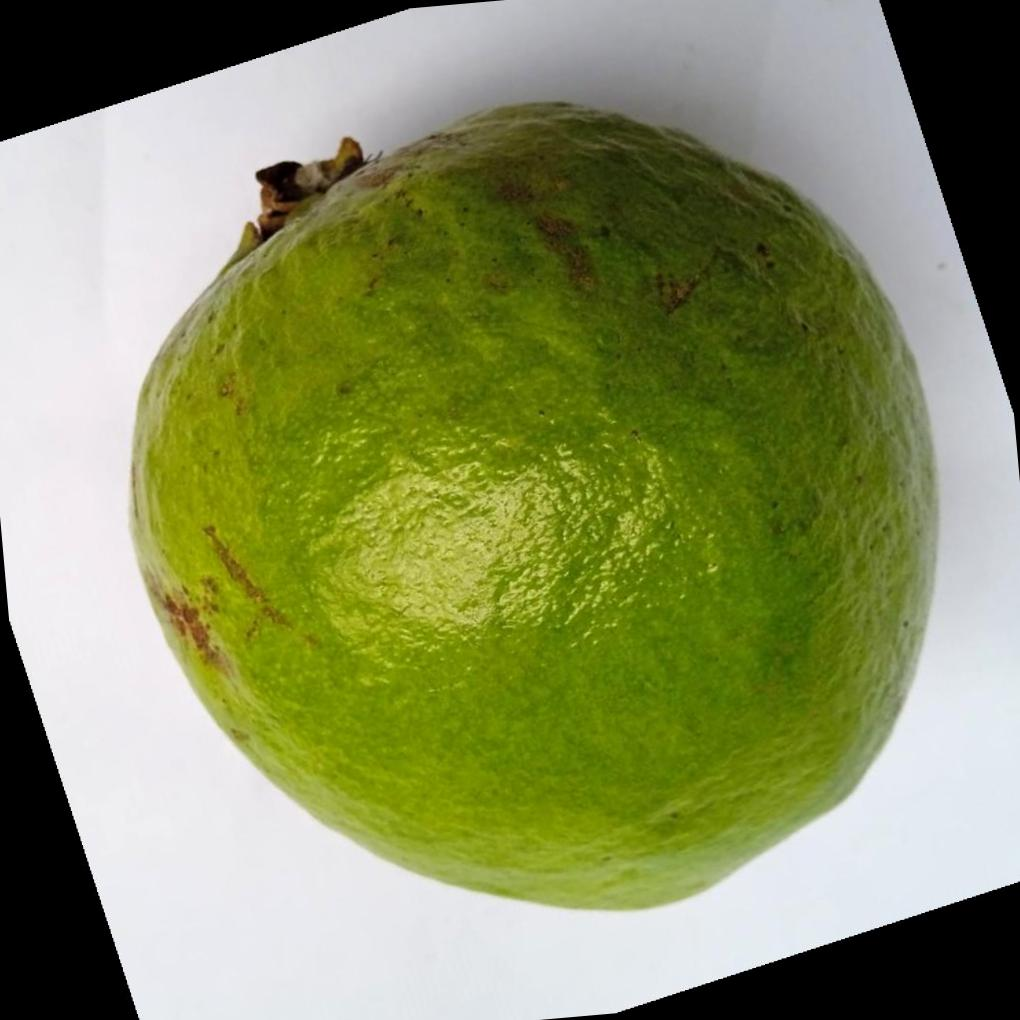FreshGuava: (127, 95, 941, 911)
